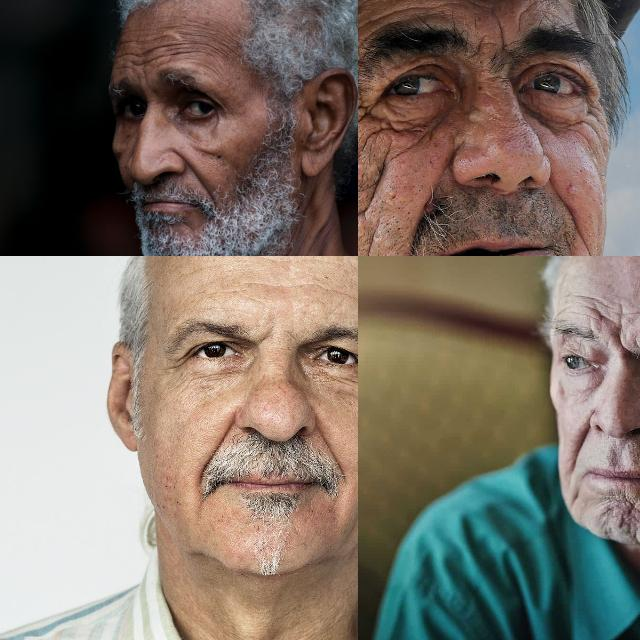chin: (616, 499, 640, 530)
crows_feet: (579, 97, 609, 135), (358, 93, 376, 138), (161, 354, 187, 378)
forehead: (236, 273, 358, 302), (177, 34, 227, 64), (239, 256, 343, 268), (126, 35, 168, 63), (582, 296, 610, 322), (382, 0, 456, 7), (506, 0, 568, 8)
frown_line: (488, 18, 512, 52), (611, 322, 629, 358), (256, 325, 274, 349)
gummy_smile: (556, 195, 594, 243), (202, 414, 234, 468), (315, 425, 345, 479), (176, 150, 210, 193), (571, 425, 589, 463)
masseter: (361, 155, 402, 211)
